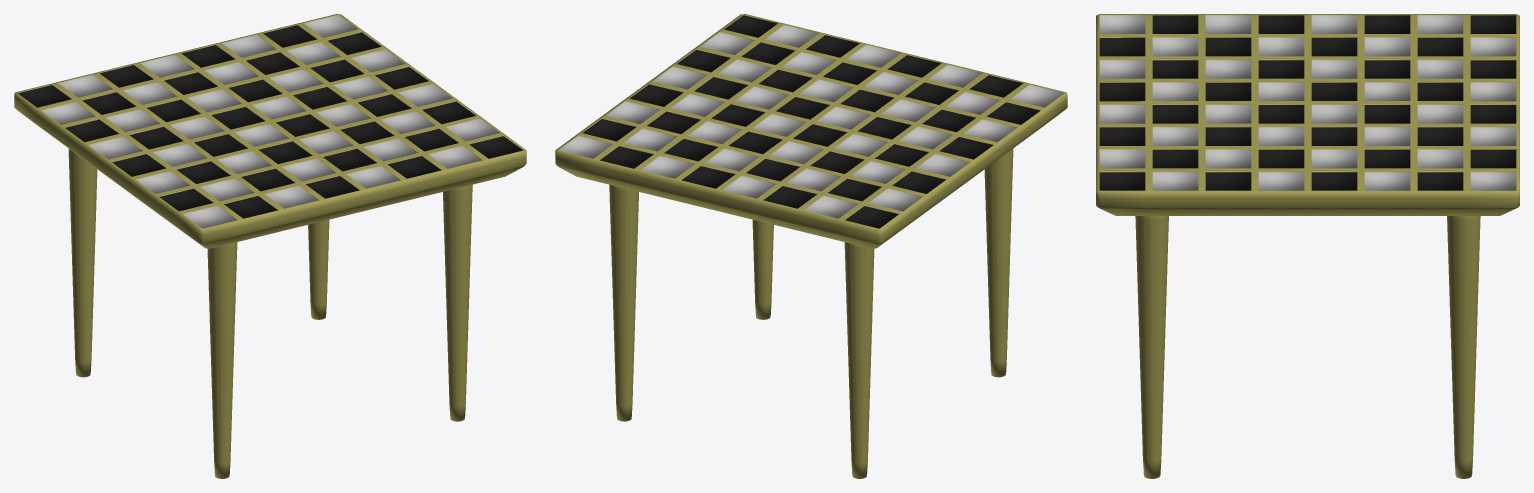
Rendered from szachownica.fbx.
The picture shows the model from 3 angles, left to right: view 1: azimuth 30°, elevation 25°; view 2: azimuth 150°, elevation 25°; view 3: azimuth 270°, elevation 25°; orthographic projection. The views are drawn at different scales.
Parts seen in each view (by area): view 1: Plane; view 2: Plane; view 3: Plane.
Boxes of the visible parts, <box> form: Plane: <box>14,14,526,478</box>; Plane: <box>555,14,1067,478</box>; Plane: <box>1096,14,1519,478</box>.
Size of the model in its own units: 109 by 87.78 by 109.
